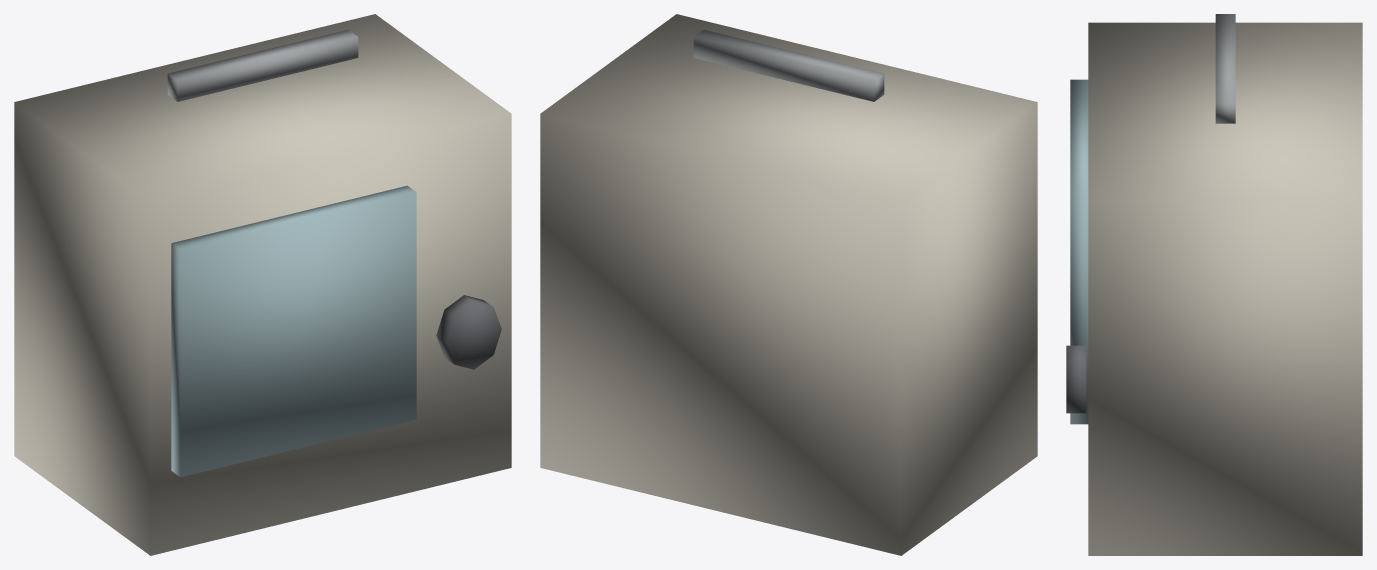
Rendered from portable_television__tall.glb.
3 renders of one model, left to right at view 1: azimuth 30°, elevation 25°; view 2: azimuth 150°, elevation 25°; view 3: azimuth 270°, elevation 25°, orthographic.
Parts seen in each view (by area): view 1: world; view 2: world; view 3: world.
Boxes of the visible parts, x1=… form: world: x1=14, y1=14, x2=511, y2=555; world: x1=540, y1=14, x2=1037, y2=555; world: x1=1066, y1=14, x2=1362, y2=555.
Size of the model in its own units: 0.52 by 0.5597 by 0.3675.
